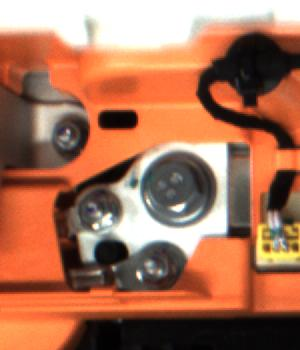nut_b: (136, 147, 231, 234)
